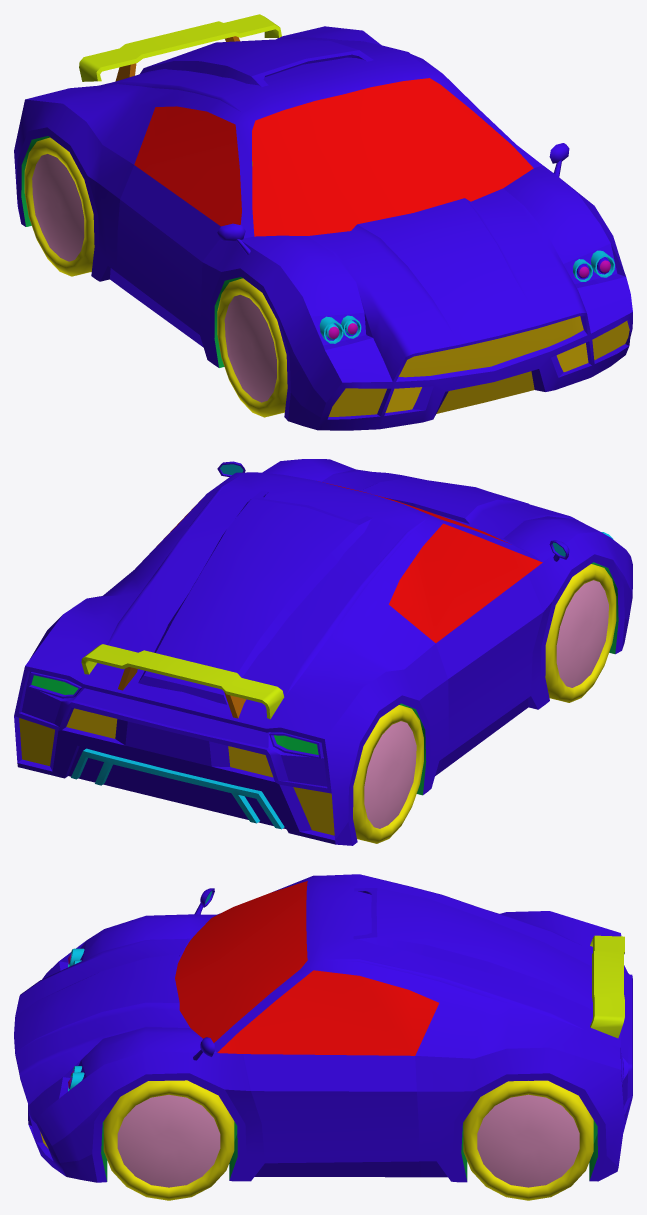
File: 09_AzureusBliss_ColorCoded.fbx
3 renders of one model, top to bottom at view 1: azimuth 30°, elevation 25°; view 2: azimuth 150°, elevation 25°; view 3: azimuth 270°, elevation 25°, orthographic. The views are drawn at different scales.
Parts seen in each view (by area): view 1: Body, tireFrontR, tireBackR, Spoiler; view 2: Body, tireFrontR, tireBackR, Spoiler; view 3: Body, tireFrontL, tireBackL, Spoiler.
Part boxes in pixels (x1=…): Body: x1=14, y1=26, x2=632, y2=430; tireFrontR: x1=217, y1=278, x2=287, y2=417; tireBackR: x1=24, y1=137, x2=94, y2=276; Spoiler: x1=79, y1=14, x2=281, y2=81; Body: x1=14, y1=459, x2=632, y2=845; tireFrontR: x1=545, y1=564, x2=616, y2=702; tireBackR: x1=353, y1=705, x2=423, y2=843; Spoiler: x1=81, y1=644, x2=284, y2=719; Body: x1=14, y1=874, x2=632, y2=1182; tireFrontL: x1=103, y1=1080, x2=234, y2=1200; tireBackL: x1=463, y1=1080, x2=593, y2=1200; Spoiler: x1=590, y1=935, x2=624, y2=1038.
Size of the model in its own units: 64.81 by 106 by 41.07.
